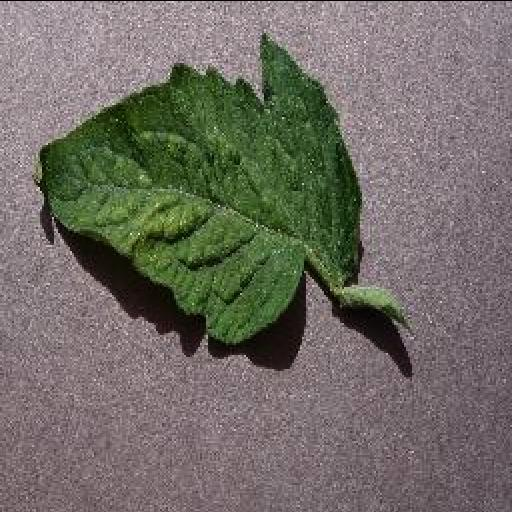disease_tomato: (32, 35, 362, 341)
